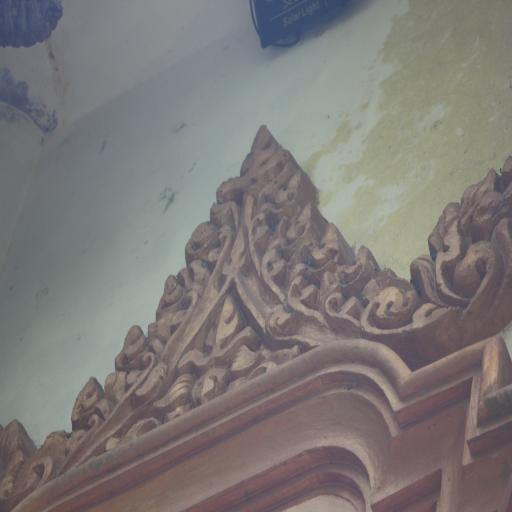la: (78, 128, 420, 450)
